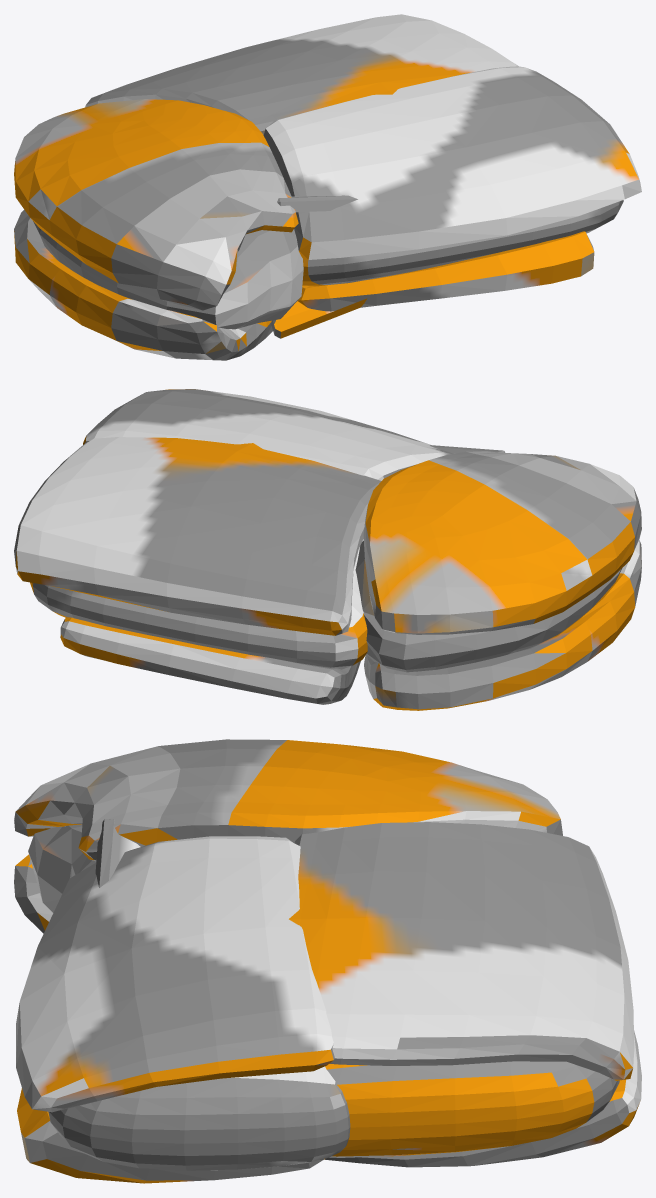
File: LeftHand.obj
3 renders of one model, top to bottom at view 1: azimuth 30°, elevation 25°; view 2: azimuth 150°, elevation 25°; view 3: azimuth 270°, elevation 25°, orthographic. The views are drawn at different scales.
Parts seen in each view (by area): view 1: LeftHand_Mesh.030; view 2: LeftHand_Mesh.030; view 3: LeftHand_Mesh.030.
Part boxes in pixels (bbox=[...]): LeftHand_Mesh.030: bbox=[14, 14, 641, 360]; LeftHand_Mesh.030: bbox=[14, 389, 641, 710]; LeftHand_Mesh.030: bbox=[14, 739, 641, 1183].
Bounding box in the file's own units: 0.1047 × 0.0357 × 0.0827.
Materials: 1 (1 with a texture image).
